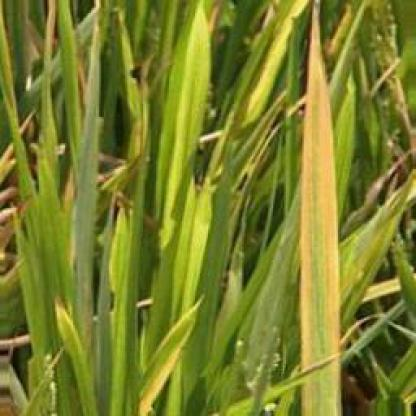Tungro: (149, 3, 230, 289), (300, 3, 342, 414), (125, 297, 208, 416), (230, 3, 307, 106)
